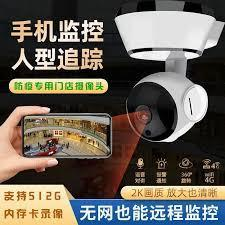maru: (128, 73, 206, 142)
